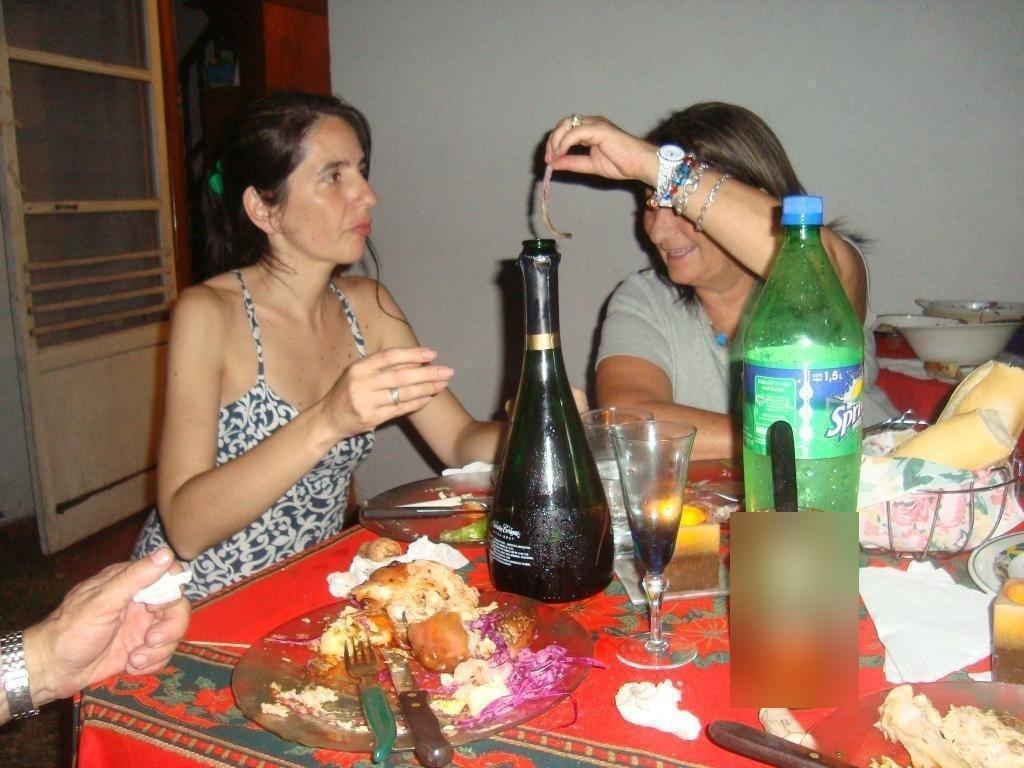bottle-glass: (481, 236, 617, 603)
bottle-plastic: (737, 190, 861, 505)
glass-wine: (606, 415, 705, 675)
